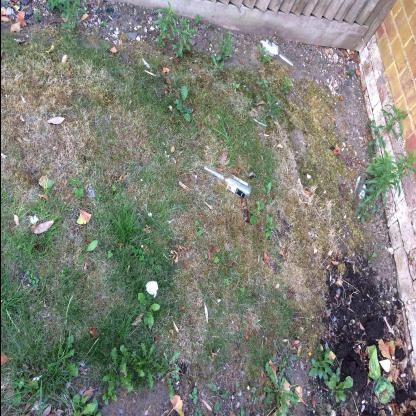cam: (204, 166, 252, 202)
